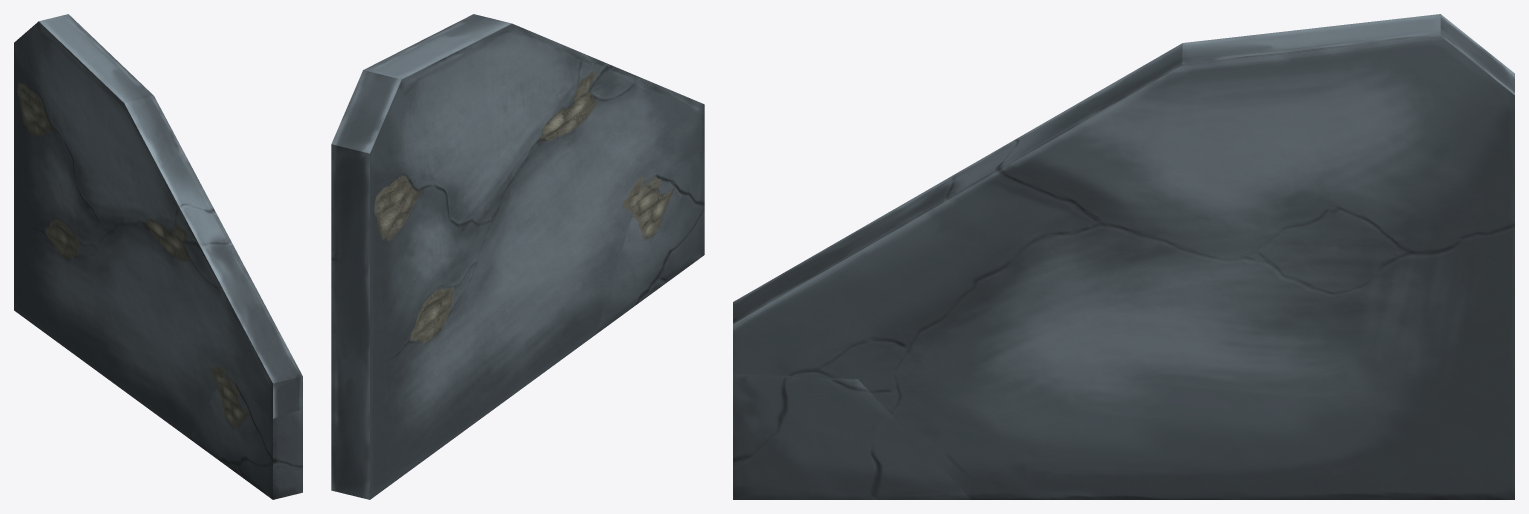
Rendered from Props_Wall.FBX.
3 renders of one model, left to right at view 1: azimuth 30°, elevation 25°; view 2: azimuth 150°, elevation 25°; view 3: azimuth 270°, elevation 25°, orthographic. The views are drawn at different scales.
Visible parts, largest first — view 1: wall big piece, wall small piece; view 2: wall big piece, wall small piece; view 3: wall big piece, wall small piece.
Part boxes in pixels (bbox=[...]): wall big piece: bbox=[14, 14, 302, 438]; wall small piece: bbox=[189, 373, 302, 499]; wall big piece: bbox=[331, 14, 704, 499]; wall small piece: bbox=[596, 150, 704, 333]; wall big piece: bbox=[733, 14, 1514, 499]; wall small piece: bbox=[733, 373, 970, 499].
Bounding box in the file's own units: 14.17 × 139 × 213.
